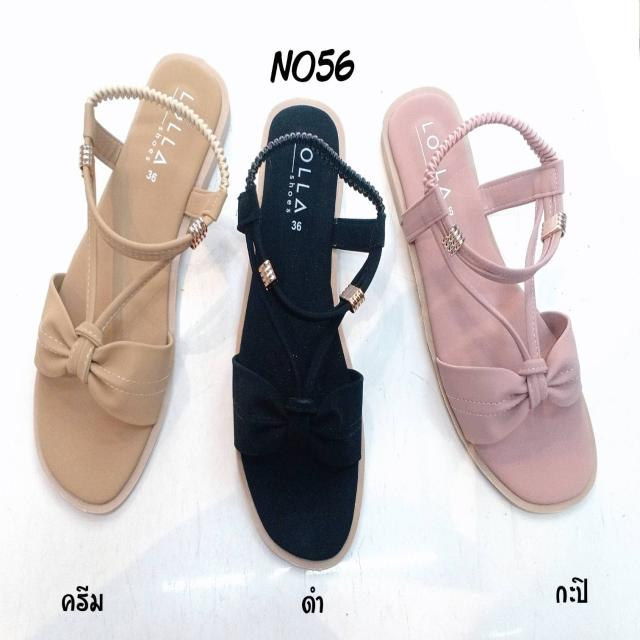black: (238, 101, 366, 557)
cream: (30, 52, 224, 516)
kapi: (384, 95, 593, 506)
